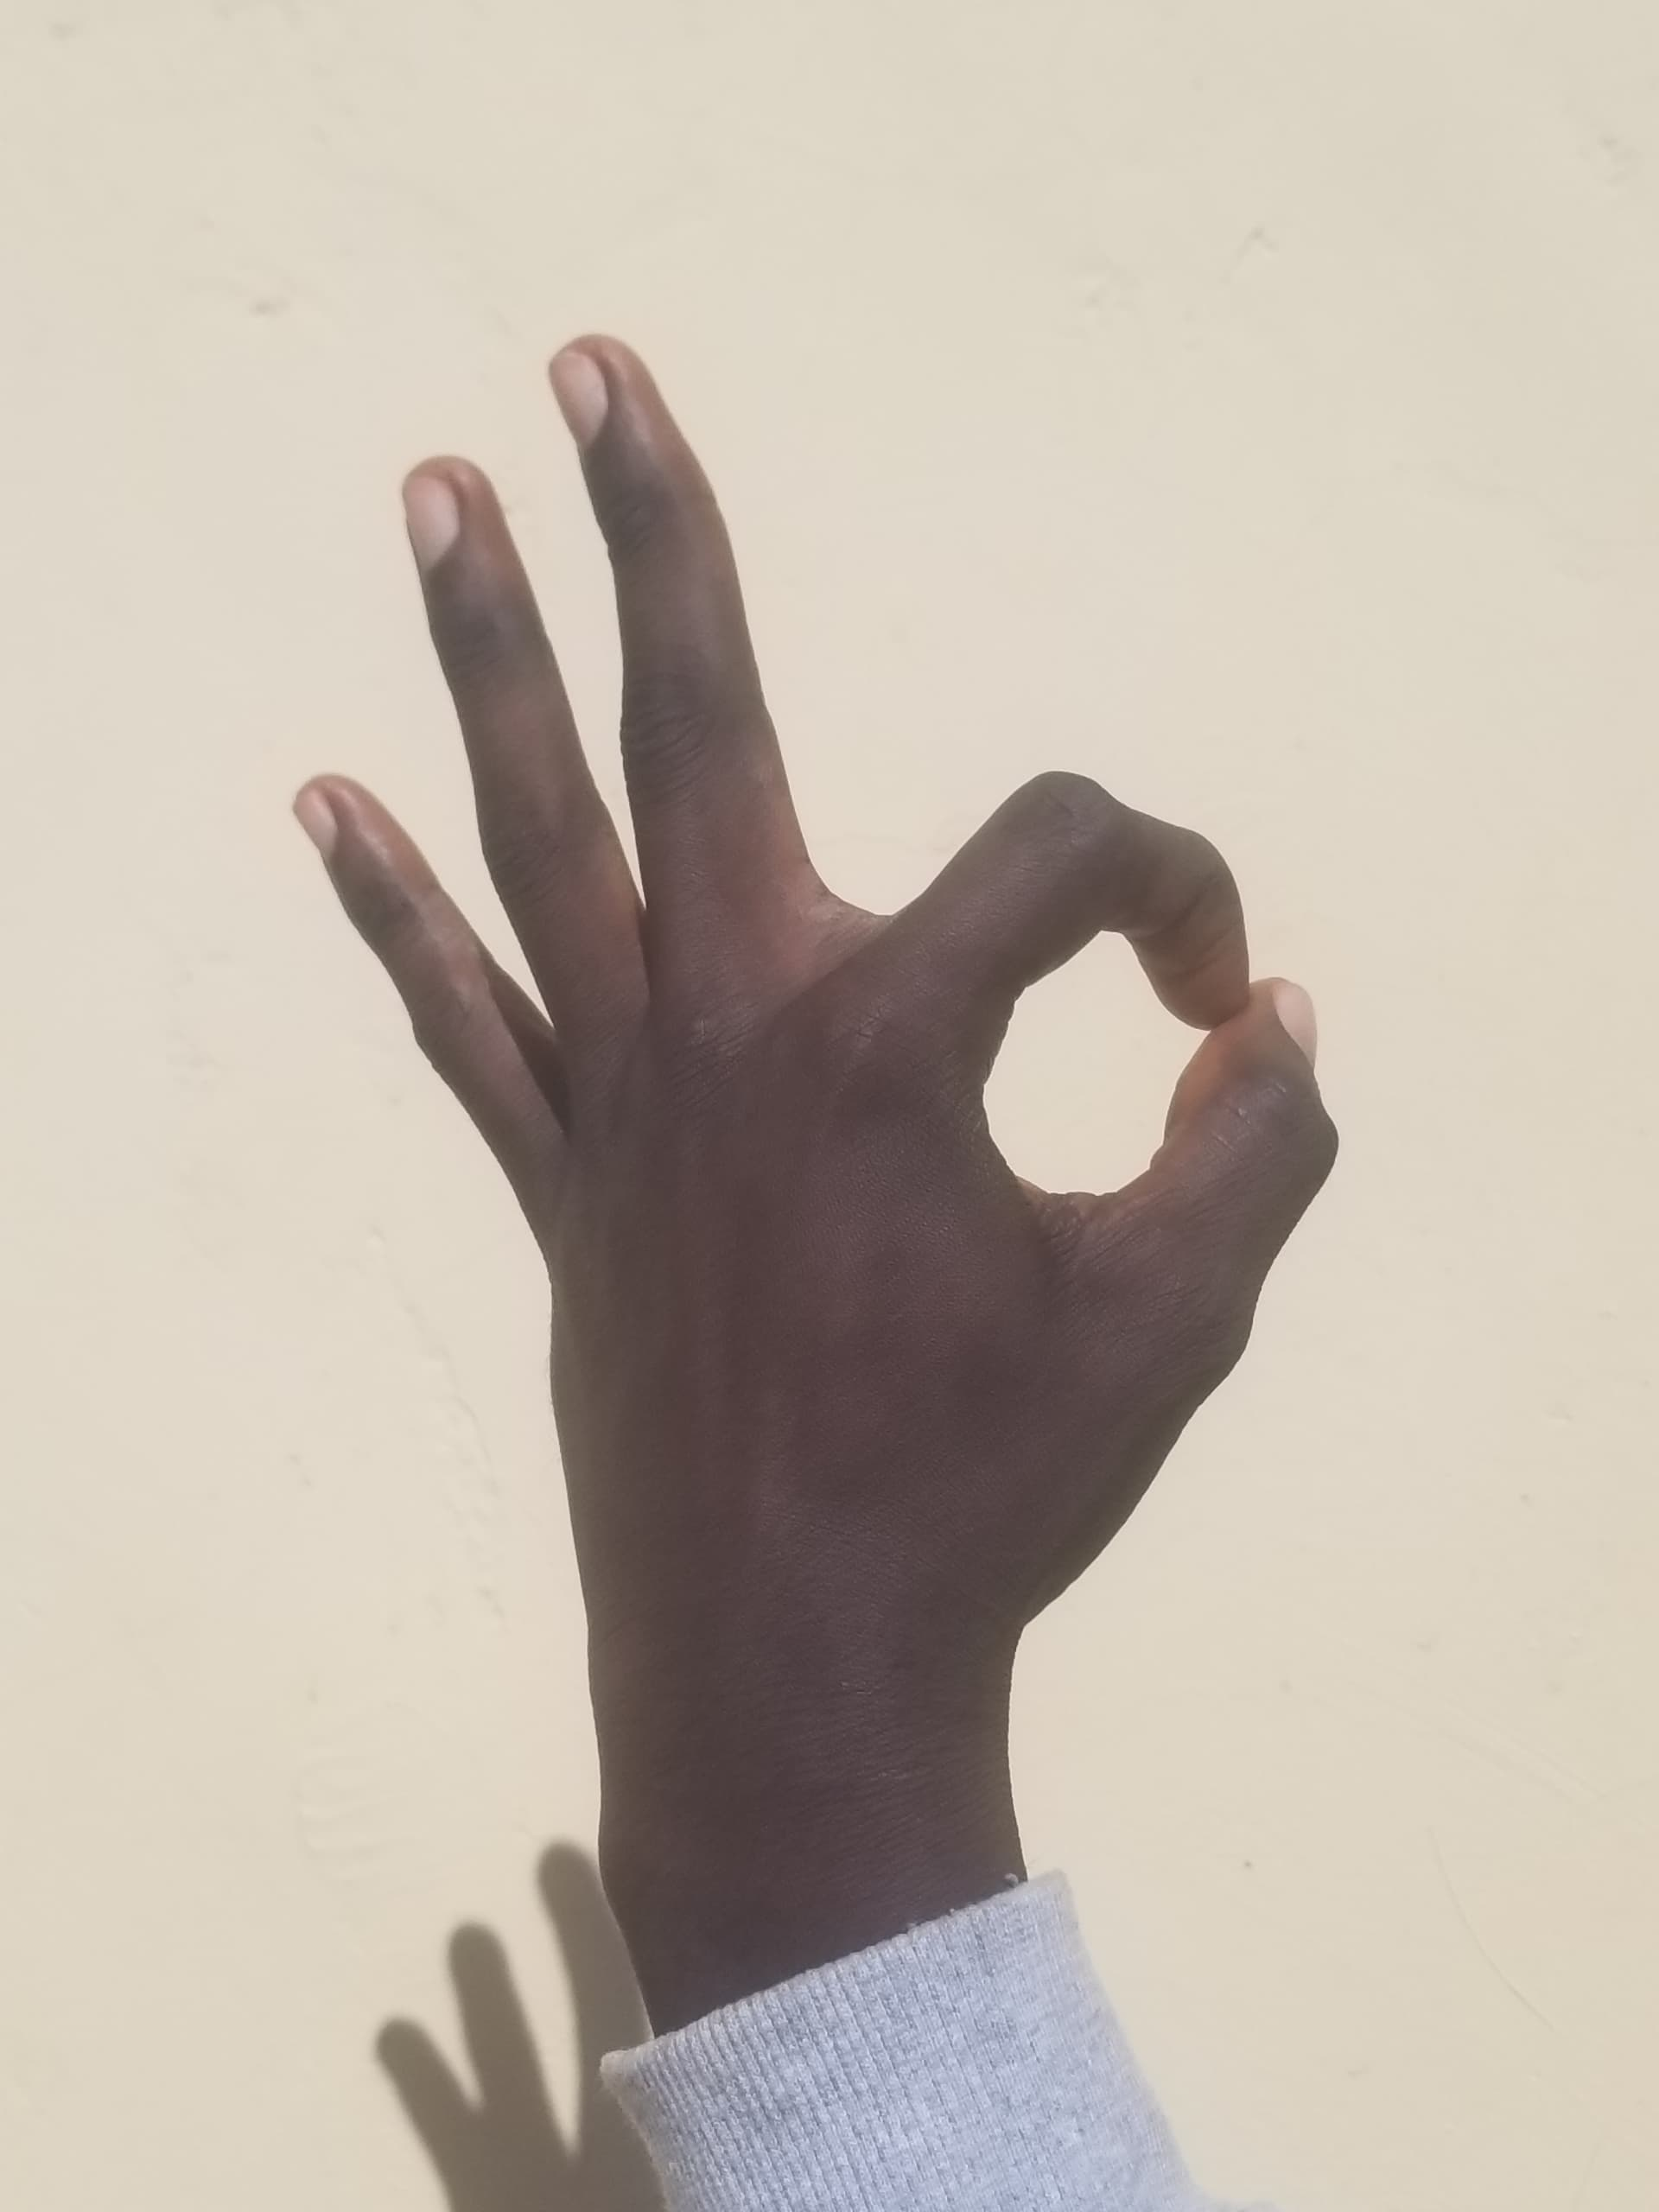okay: (206, 279, 1358, 1939)
